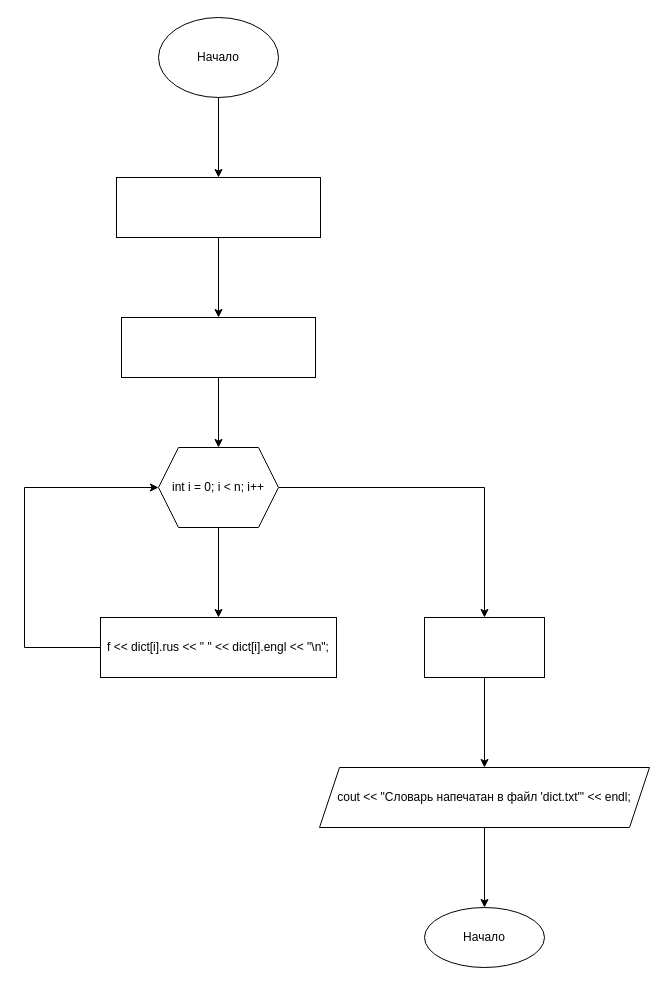
The diagram is 667 pixels wide and 985 high, and some of its shapes have lost their labels. Here are the shapes that lost their labels. From the top down, the centre of each, then its label:
point 218,207: const char filename[] = "dict.txt";
point 218,347: ofstream f; f.open(filename, ios::binary);
point 484,647: f.close();
